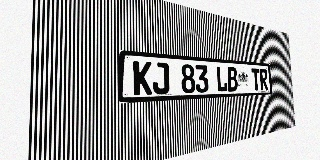3: (195, 65, 209, 93)
8: (181, 64, 196, 93)
B: (227, 67, 238, 92)
J: (152, 62, 169, 94)
K: (133, 61, 152, 95)
L: (216, 66, 228, 92)
R: (259, 69, 268, 90)
T: (251, 68, 260, 91)
